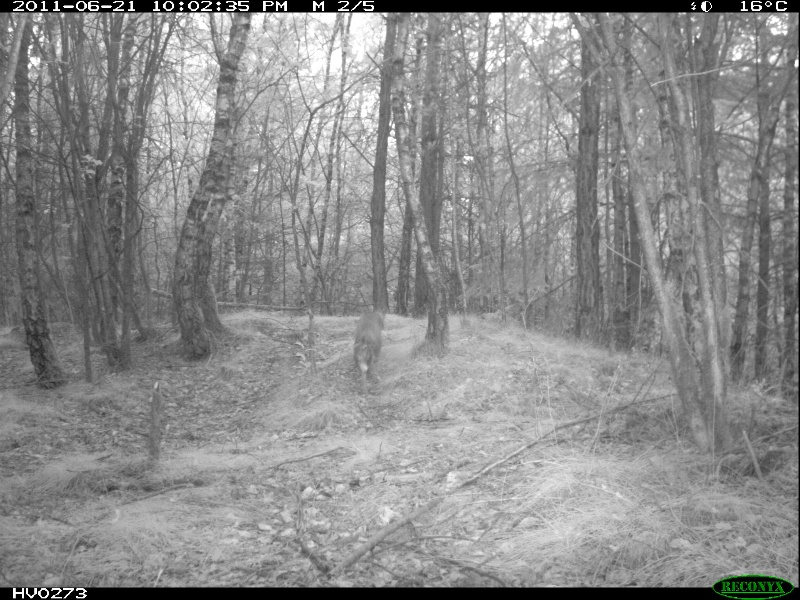fox: (348, 306, 396, 386)
